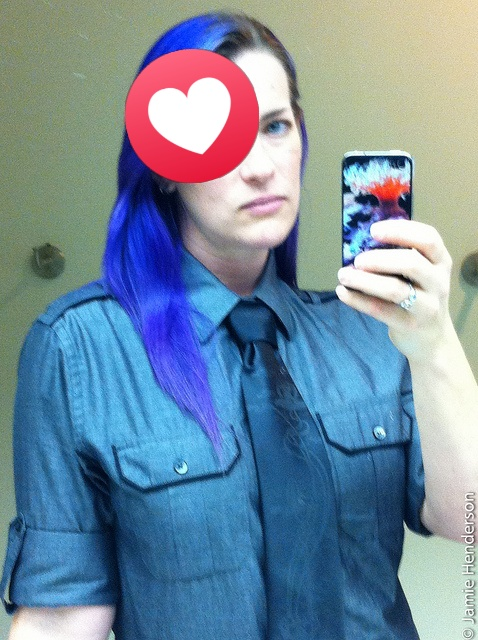love: (125, 49, 259, 183)
